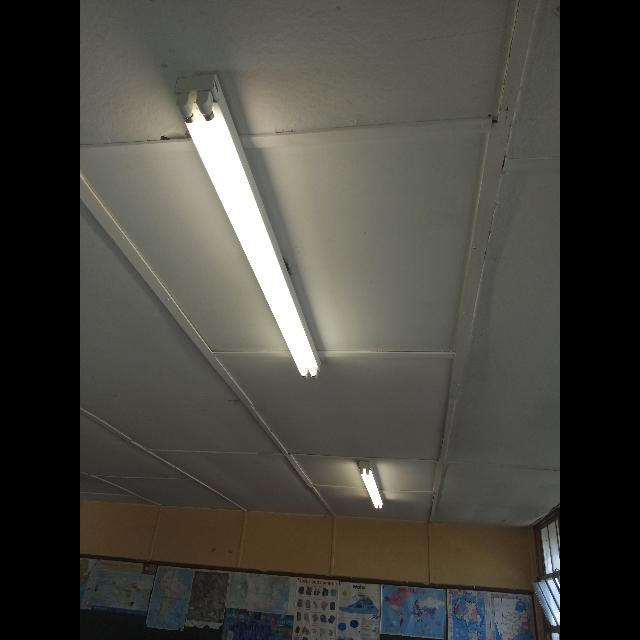Straight-Tube-Fluorescent-Lamp: (159, 65, 331, 385), (359, 448, 395, 520)
